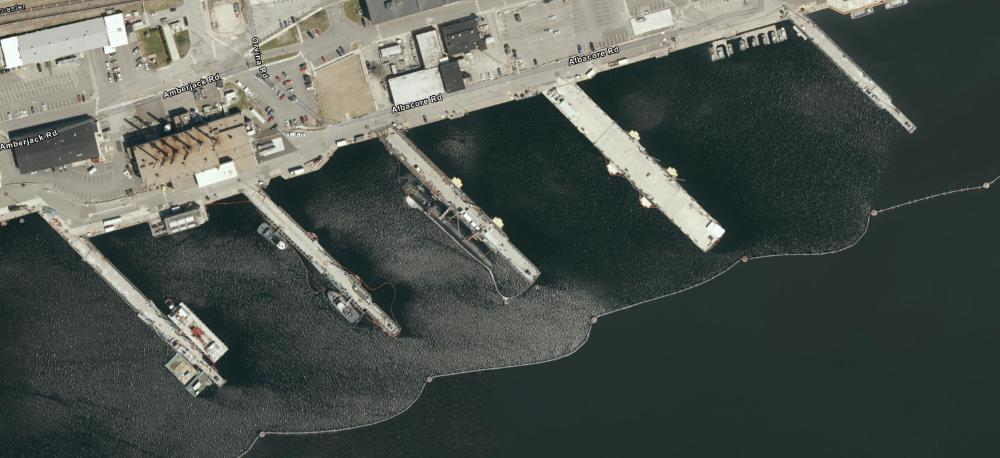submarine: (389, 165, 510, 285)
